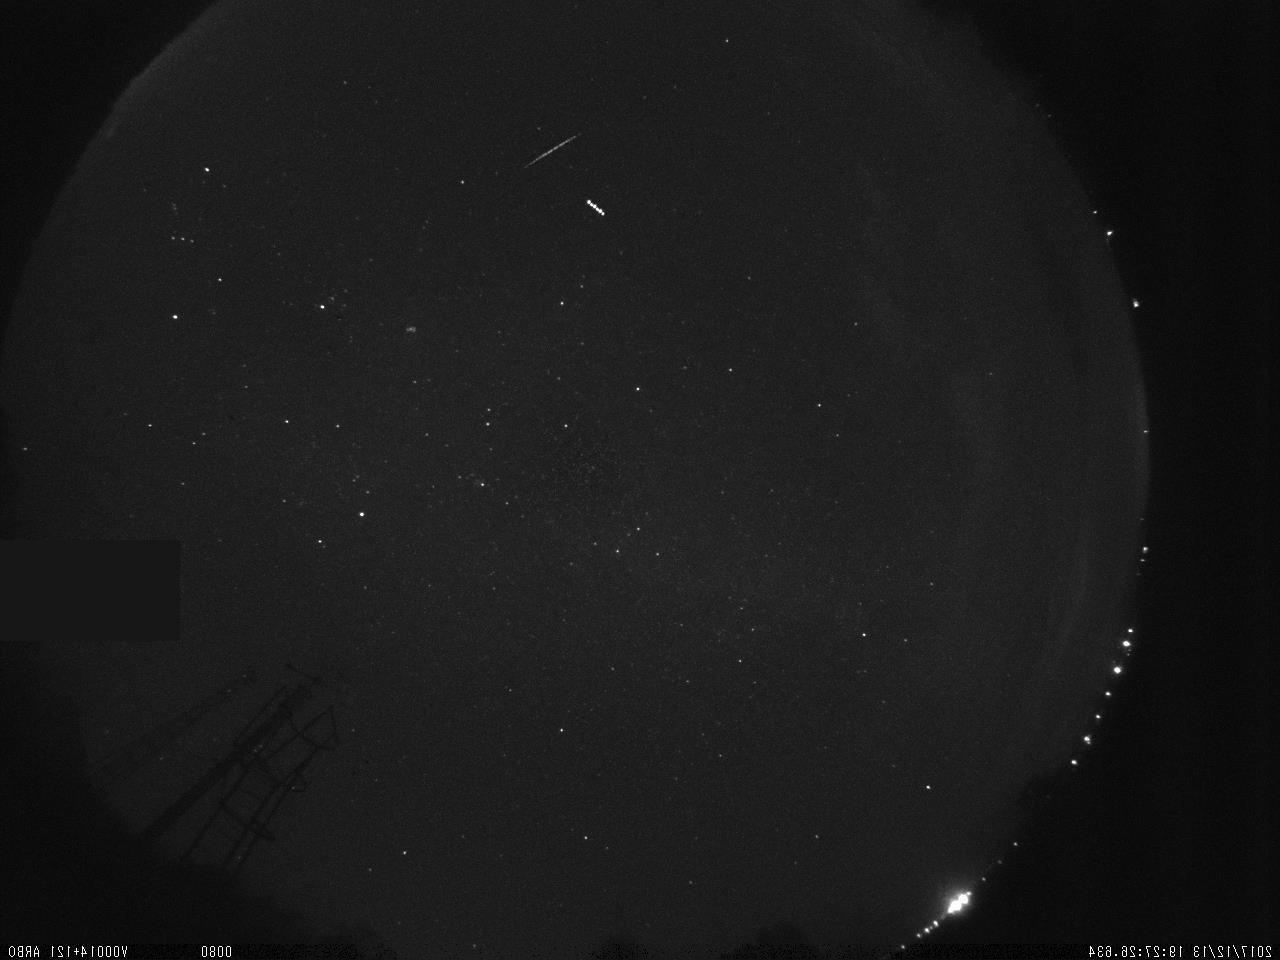meteor: (515, 124, 591, 171)
satelite: (582, 194, 613, 226)
